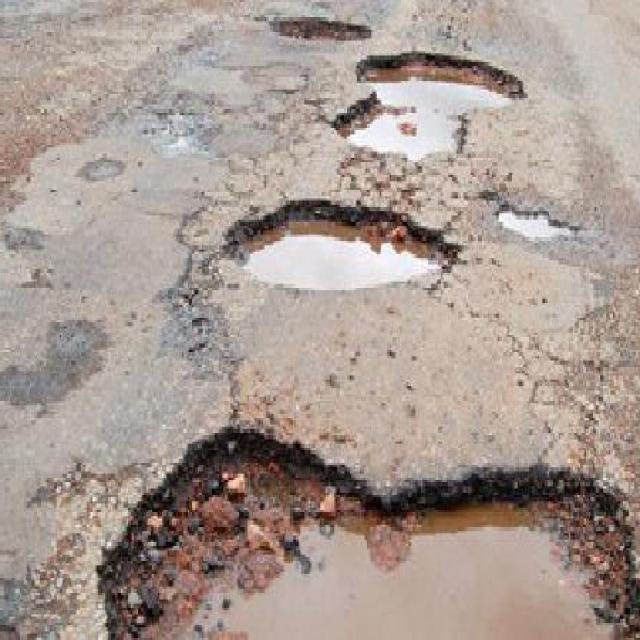pothole: (97, 420, 640, 637), (220, 192, 468, 288), (331, 47, 528, 158), (495, 203, 579, 239), (267, 15, 374, 43)
